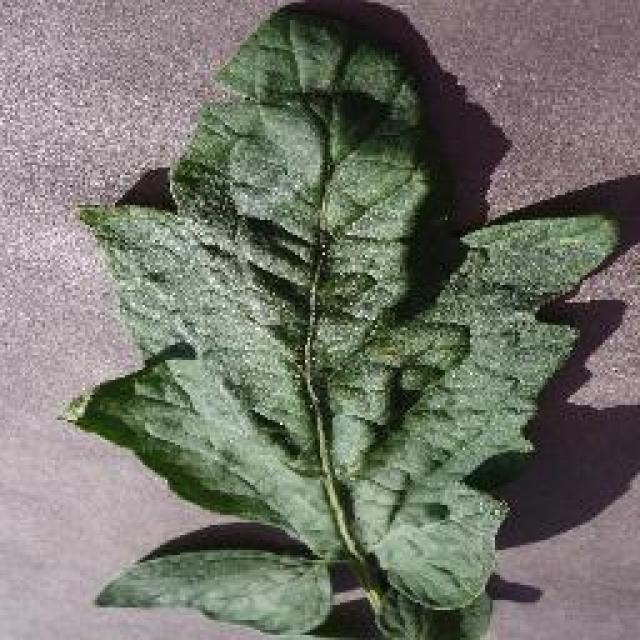Tom_Target_Spot: (147, 177, 405, 385)
